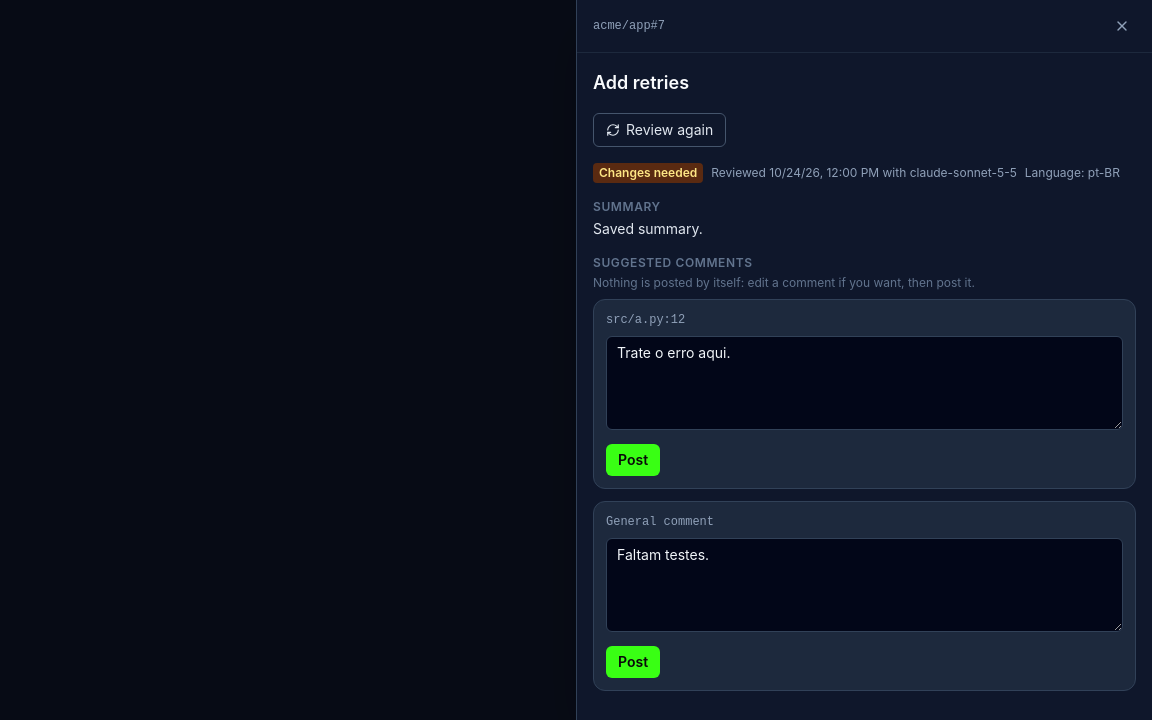
Test: ReviewPanel › shows a saved review without running a new one
Expected: the text "Saved summary." is shown, left=593, top=220, right=703, bottom=237
Click the button "Review again" at (660, 130), box left=593, top=113, right=726, bottom=147
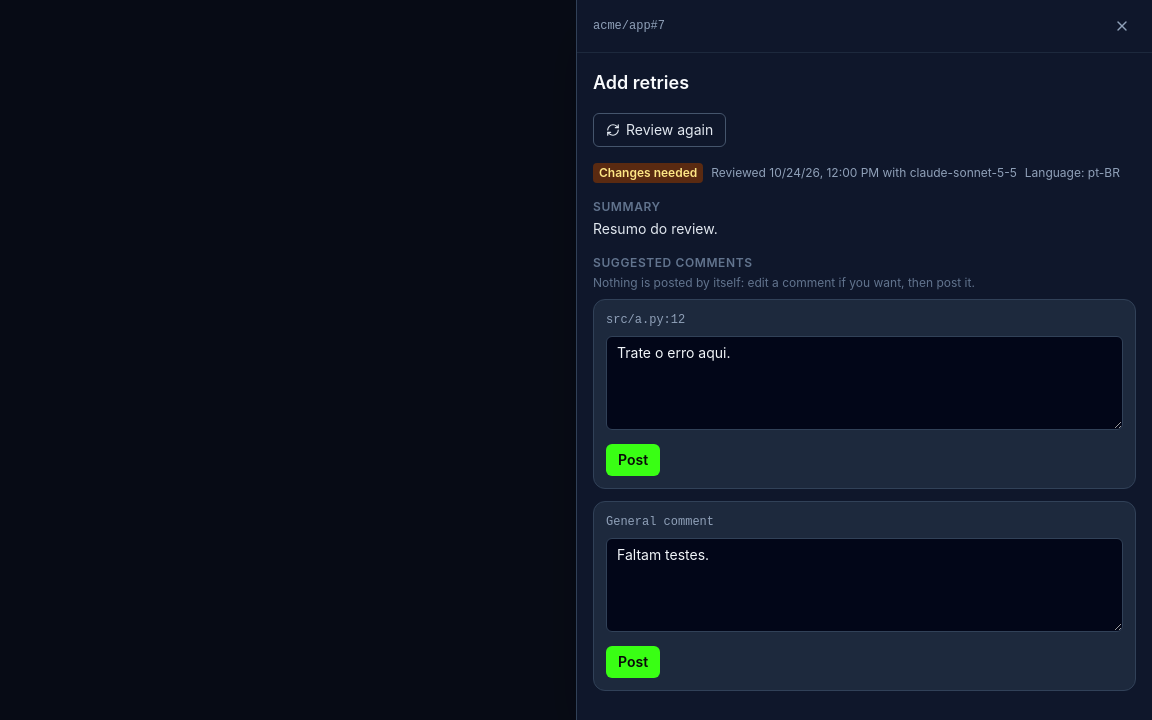
Now the text "Resumo do review." is shown, box left=593, top=220, right=718, bottom=237
